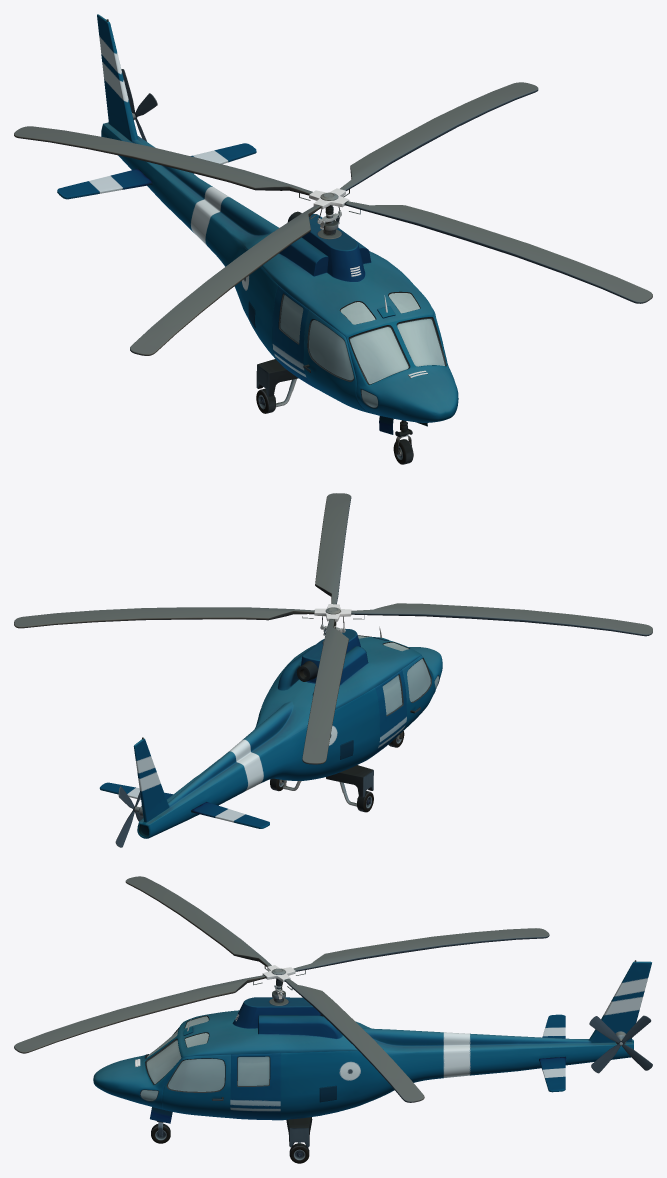
Rendered from bearing.glb.
The picture shows the model from 3 angles, top to bottom: view 1: azimuth 30°, elevation 25°; view 2: azimuth 150°, elevation 25°; view 3: azimuth 270°, elevation 25°; orthographic projection. The views are drawn at different scales.
Parts seen in each view (by area): view 1: helicopter.1; view 2: helicopter.1; view 3: helicopter.1.
Boxes of the visible parts, box(x1,y1,x2,y2) form: helicopter.1: box(14, 14, 652, 464); helicopter.1: box(14, 493, 652, 847); helicopter.1: box(14, 876, 652, 1163).
Size of the model in its own units: 37.64 by 14.2 by 45.16.
Materials: 1 (1 with a texture image).
